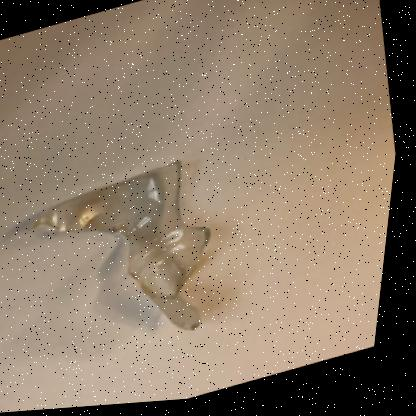Glass: (38, 162, 217, 333)
